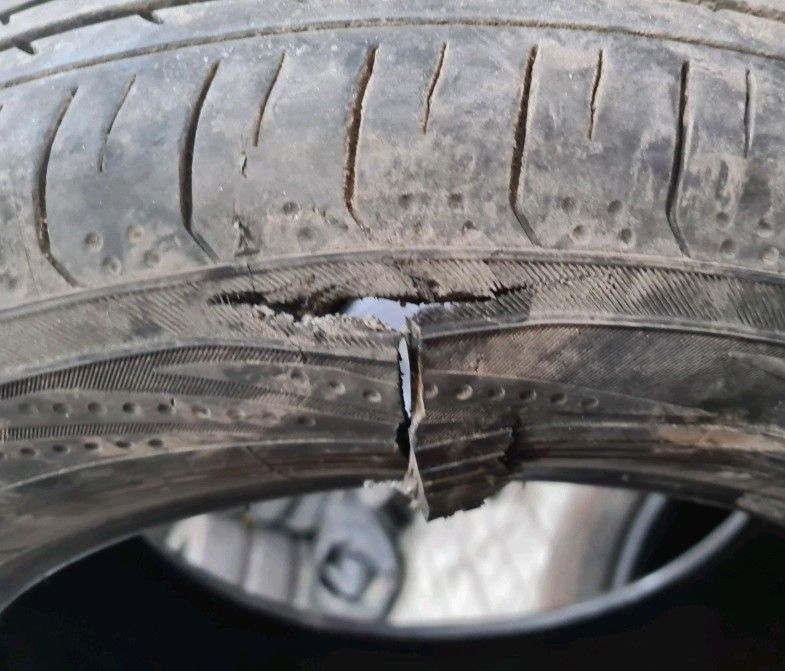bead_damage: (196, 259, 625, 519)
